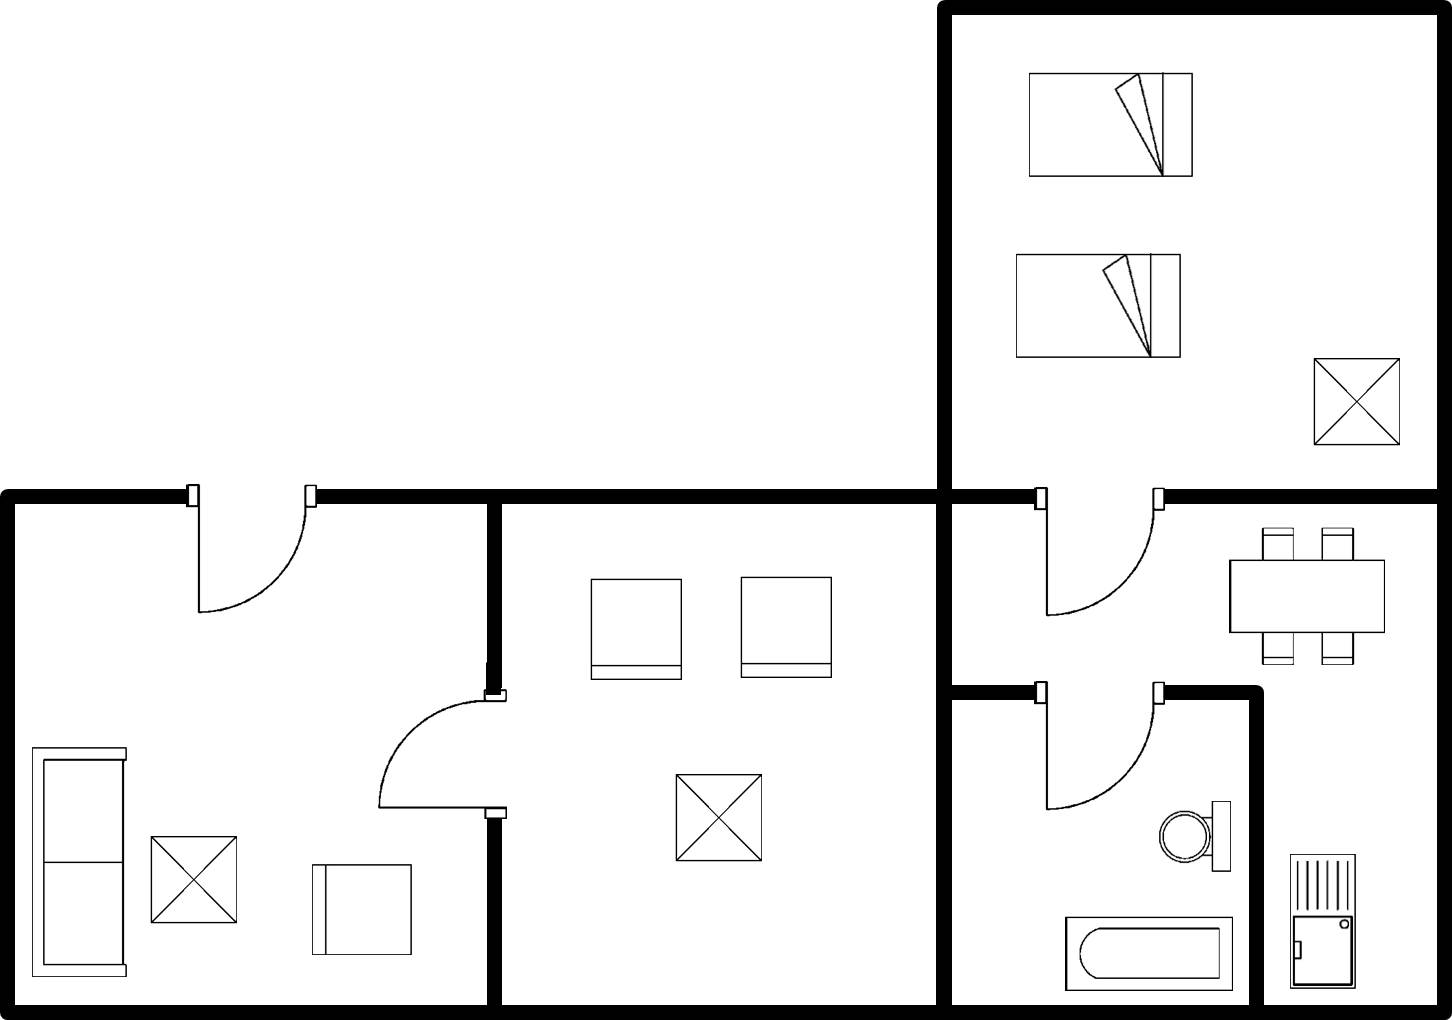bed: (1005, 246, 1189, 366), (1022, 65, 1199, 184)
coffee_table: (142, 825, 246, 935), (666, 765, 771, 871), (1306, 349, 1407, 451)
dining_table: (1219, 518, 1396, 674)
large_sink: (1149, 792, 1239, 886)
large_sofa: (24, 741, 133, 986)
sink: (1279, 847, 1366, 999)
small_sofa: (304, 853, 425, 966), (730, 570, 842, 688), (583, 570, 691, 690)
tub: (1053, 907, 1240, 999)
